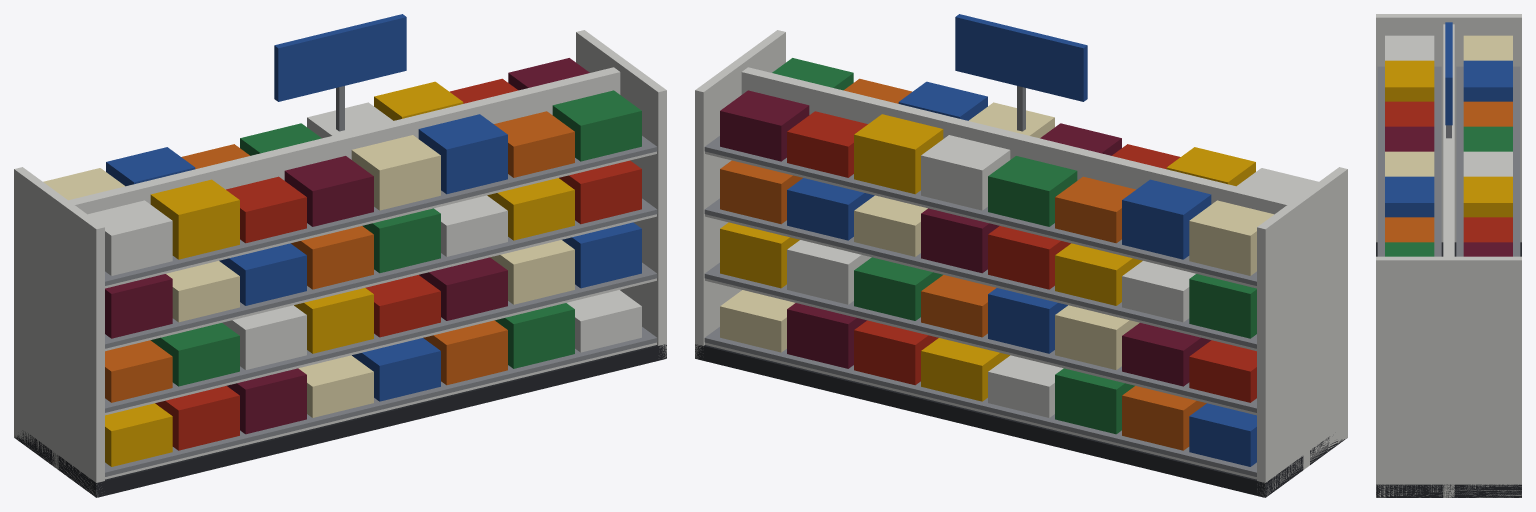
Rendered from prop_shop-aisle.64047501de06.glb.
The picture shows the model from 3 angles, left to right: view 1: azimuth 30°, elevation 25°; view 2: azimuth 150°, elevation 25°; view 3: azimuth 270°, elevation 25°; orthographic projection. The views are drawn at different scales.
Visible parts, largest first — view 1: body; view 2: body; view 3: body.
Part boxes in pixels (x1,y1,x2,y2): body: (14, 14, 666, 497); body: (695, 14, 1347, 497); body: (1376, 14, 1521, 497).
Bounding box in the file's own units: 4 × 2.46 × 1.
